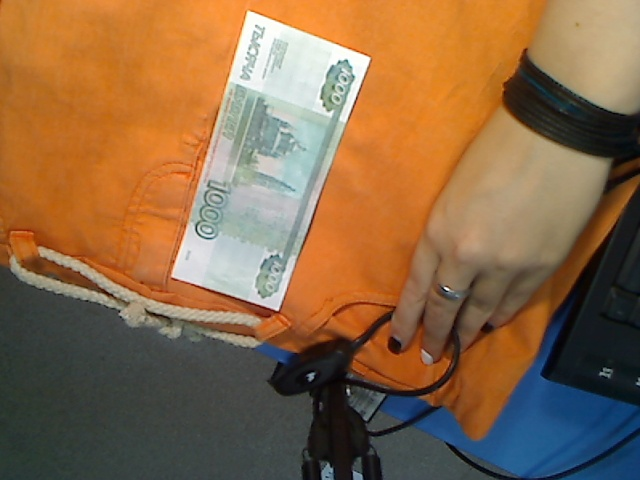banknotes: (171, 10, 373, 316)
